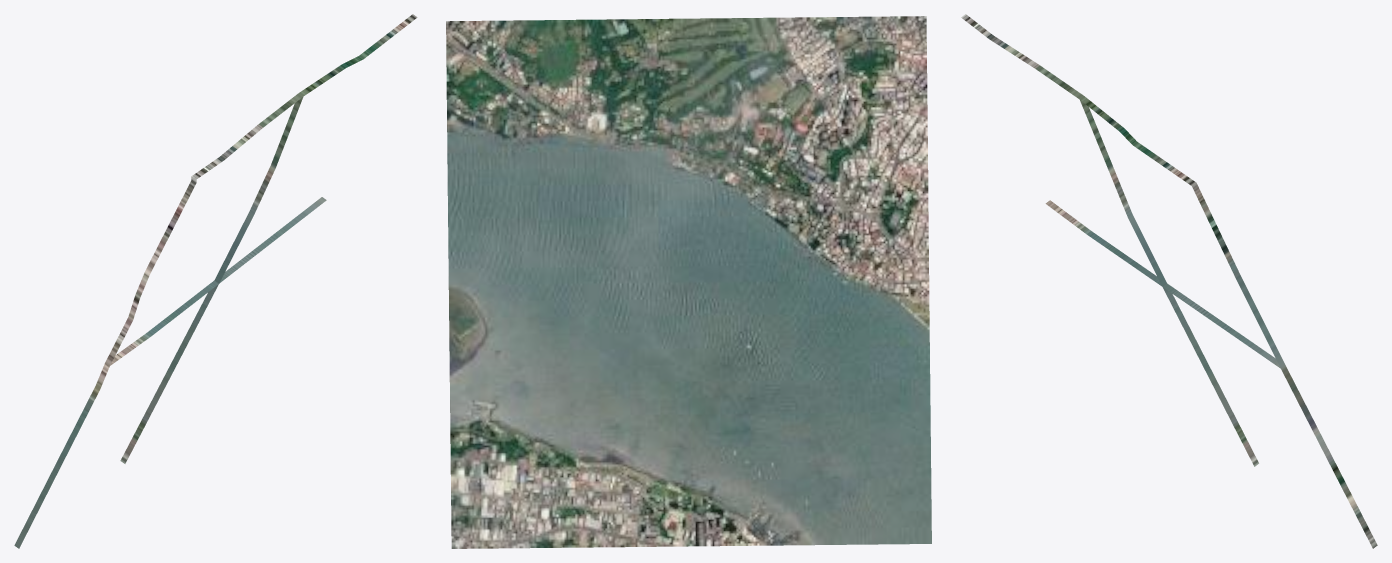
The picture shows the model from 3 angles, left to right: view 1: azimuth 30°, elevation 25°; view 2: azimuth 150°, elevation 25°; view 3: azimuth 270°, elevation 25°; orthographic projection. The views are drawn at different scales.
Bounding box in the file's own units: 2441 × 2238 × 2037.
1 material, 1 textured.
